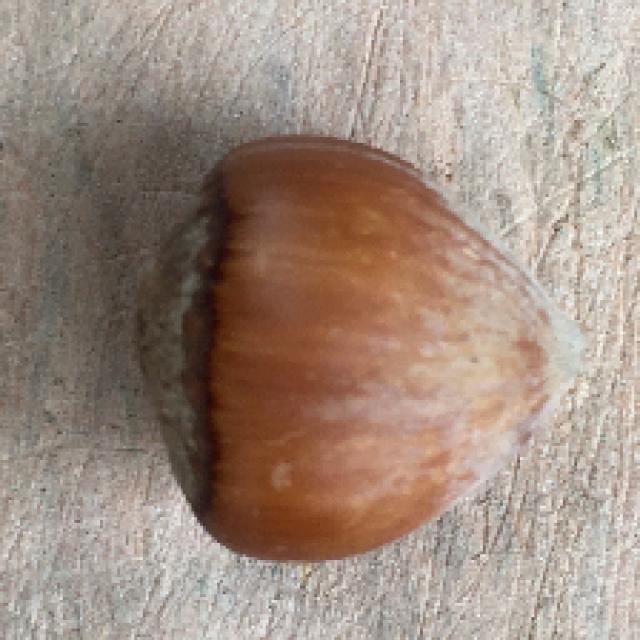qualityHazelnut: (134, 130, 581, 566)
